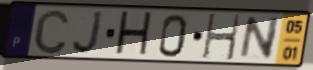0: (157, 12, 191, 59)
C: (32, 8, 72, 56)
H: (113, 9, 155, 60), (201, 12, 242, 62)
J: (70, 10, 106, 57)
N: (237, 16, 283, 61)
